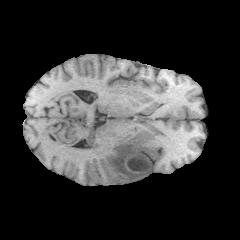glioma: (70, 135, 153, 182)
